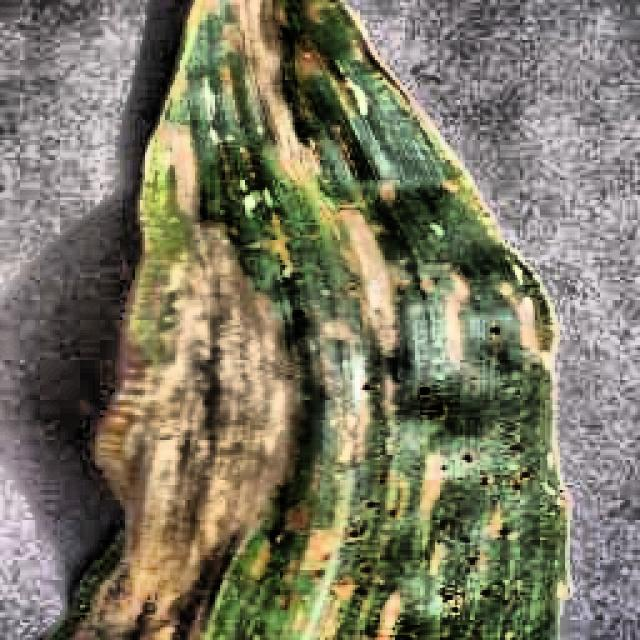gray_spot: (144, 0, 578, 640)
